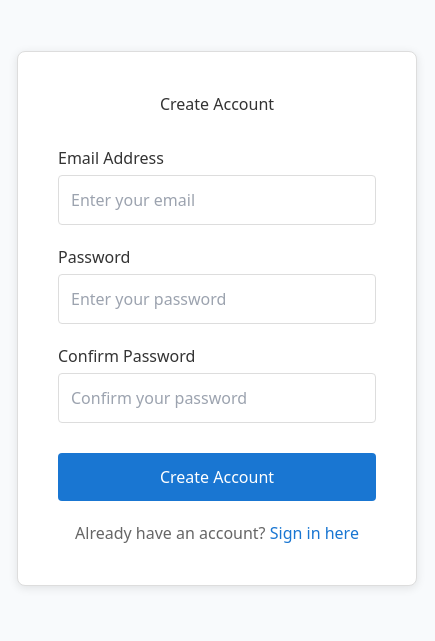
Test: SignUpPage › should handle sign up errors
In the field labelled "Email Address": point(217, 200) top-left (58, 174), bottom-right (376, 224), type "test@example.com"
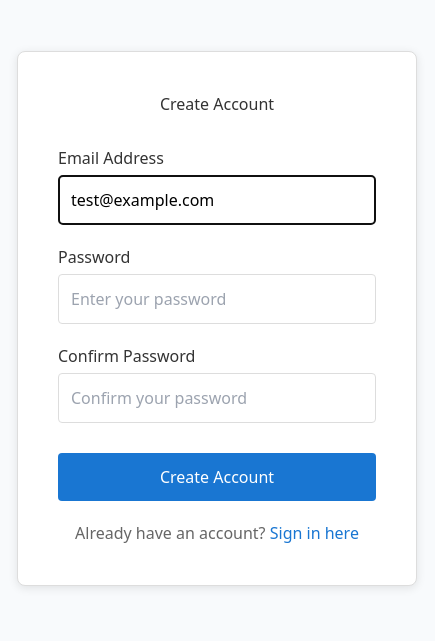
In the password field labelled "Password": point(217, 298) top-left (58, 274), bottom-right (376, 324), type "Password123"
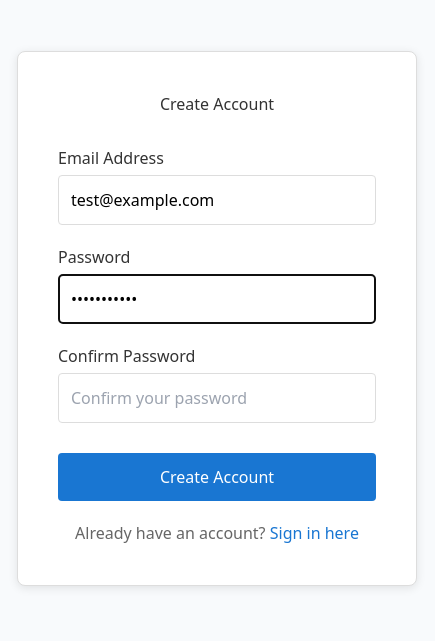
In the password field labelled "Confirm Password": point(217, 398) top-left (58, 372), bottom-right (376, 422), type "Password123"
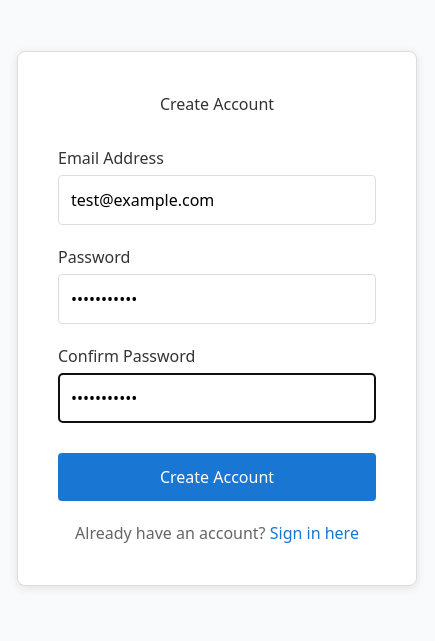
Click the button "Create Account": point(217, 476) top-left (58, 452), bottom-right (376, 500)
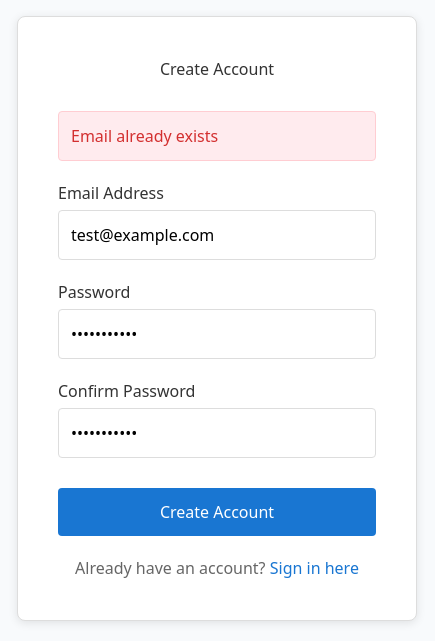
expect the text "Email already exists" is shown: met, box top-left (58, 110), bottom-right (376, 160)
